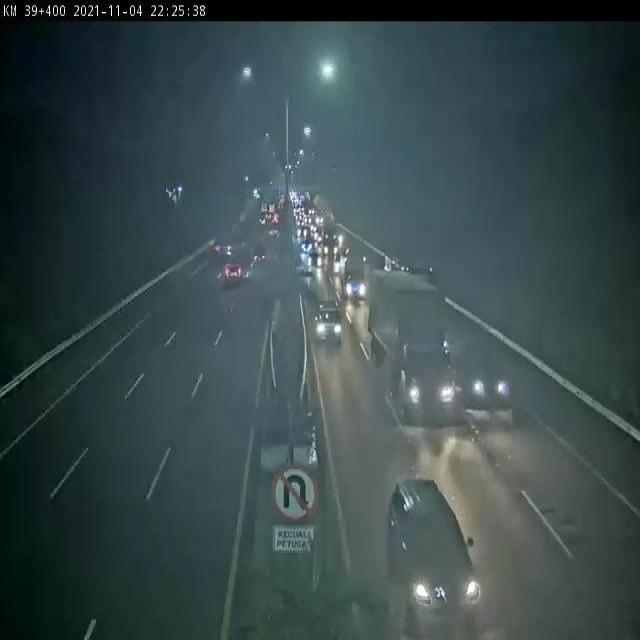car: (388, 479, 481, 633), (456, 331, 515, 417), (311, 293, 345, 339), (220, 262, 247, 294)
truck-m-: (339, 246, 372, 306)
truck-s-: (209, 224, 236, 260)
truck-xl-: (367, 276, 458, 427)
